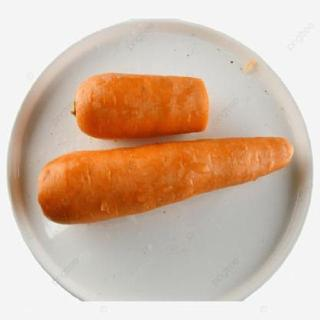carrot: (36, 136, 296, 228), (70, 72, 210, 136)
